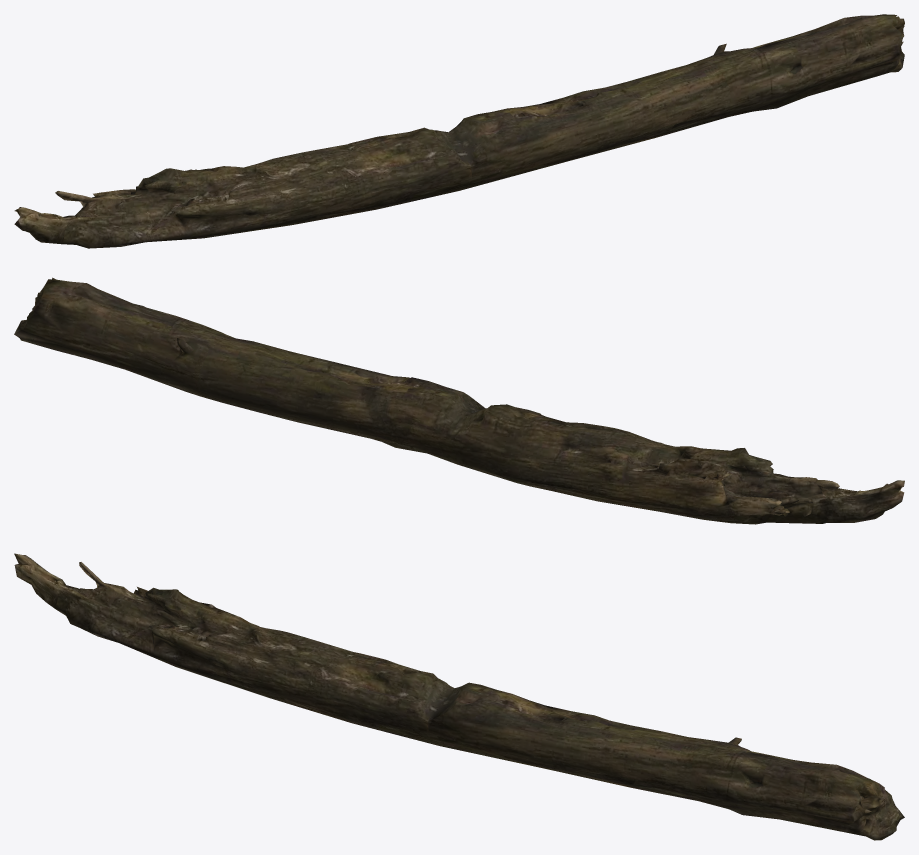
File: dead_tree_trunk.glb
3 renders of one model, top to bottom at view 1: azimuth 30°, elevation 25°; view 2: azimuth 150°, elevation 25°; view 3: azimuth 330°, elevation 25°, orthographic.
Visible parts, largest first — view 1: dead_tree_trunk; view 2: dead_tree_trunk; view 3: dead_tree_trunk.
Boxes of the visible parts, box(x1,y1,x2,y2) form: dead_tree_trunk: box(14, 14, 904, 248); dead_tree_trunk: box(14, 277, 904, 524); dead_tree_trunk: box(14, 553, 904, 840).
Size of the model in its own units: 3.05 by 0.2869 by 0.2773.
Materials: 1 (1 with a texture image).
